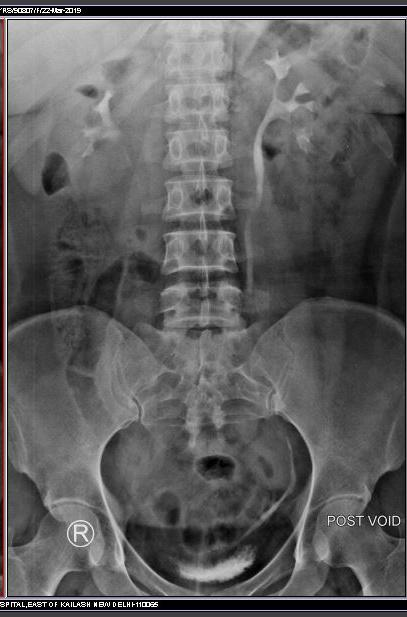left kidney: (249, 36, 355, 206)
vertebrae: (163, 77, 232, 117)
